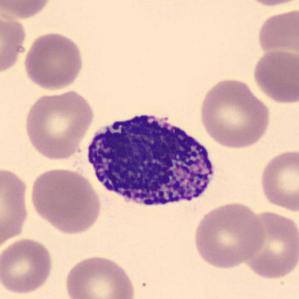Basophil: (80, 103, 221, 215)
RBC: (22, 87, 96, 161), (197, 77, 272, 150), (191, 200, 267, 270), (27, 165, 102, 230), (241, 208, 298, 282), (21, 30, 85, 92), (62, 252, 137, 299), (0, 236, 56, 296), (0, 163, 31, 252), (257, 147, 298, 214), (251, 47, 298, 105), (255, 6, 299, 54), (0, 6, 29, 76), (0, 0, 54, 21), (240, 0, 299, 7)
